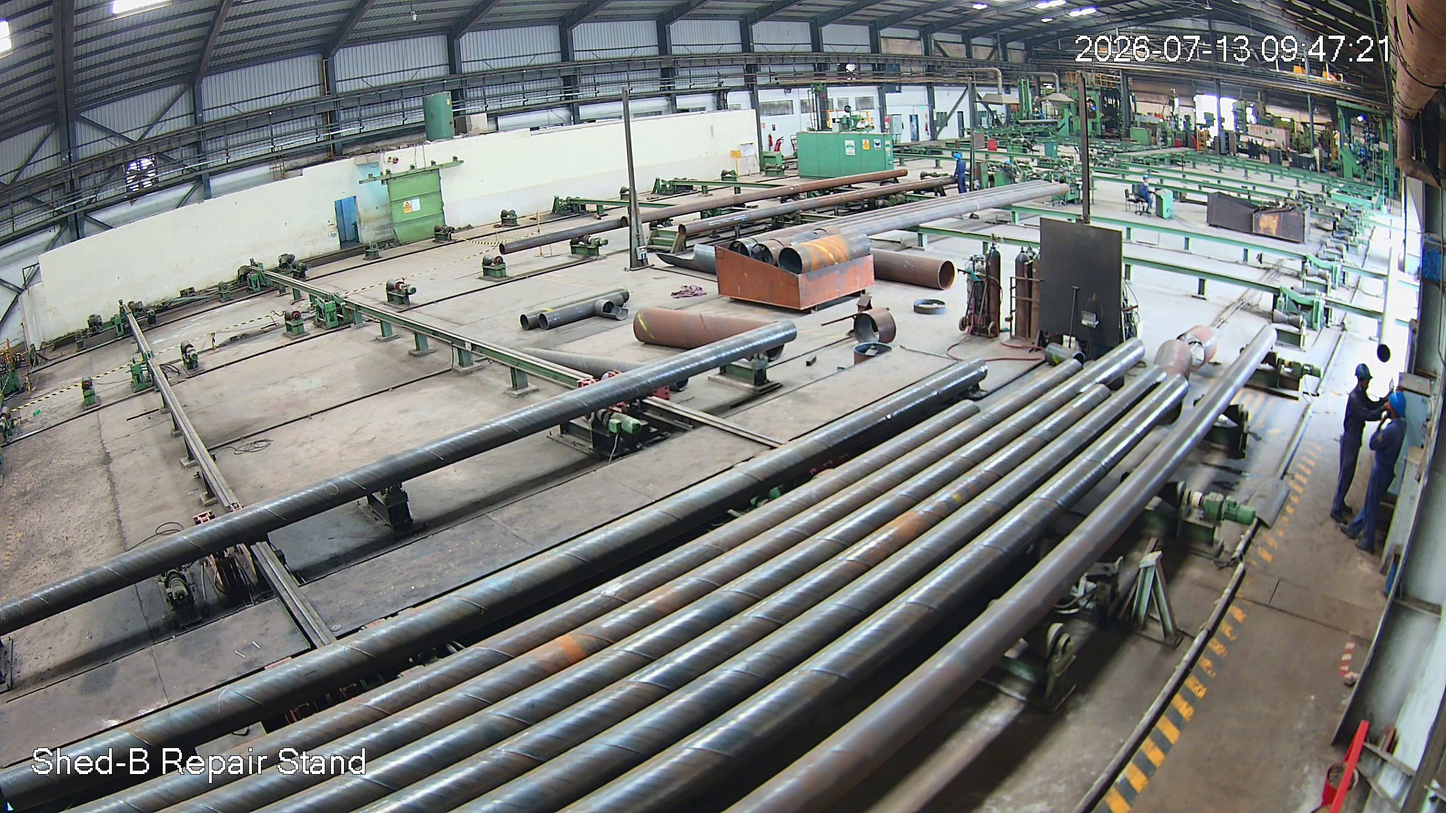Helmet: (1348, 357, 1382, 394), (1382, 387, 1414, 422)
Person: (1349, 392, 1411, 556), (1327, 363, 1378, 537)
